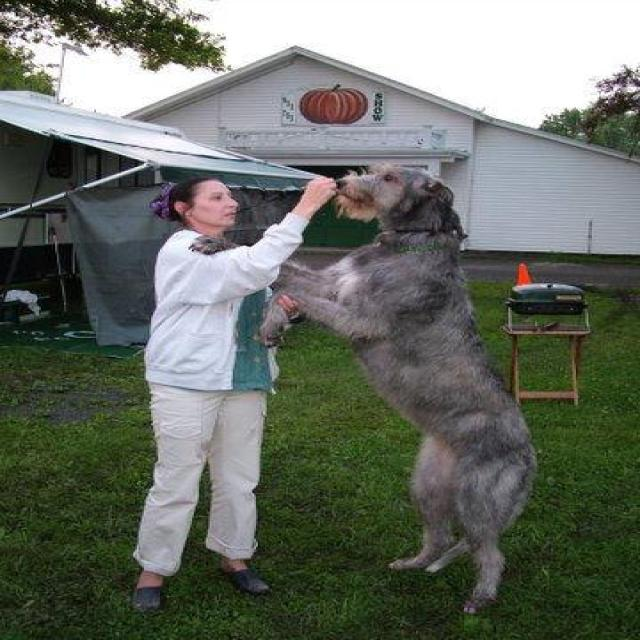irish_wolfhound: (188, 163, 534, 612)
